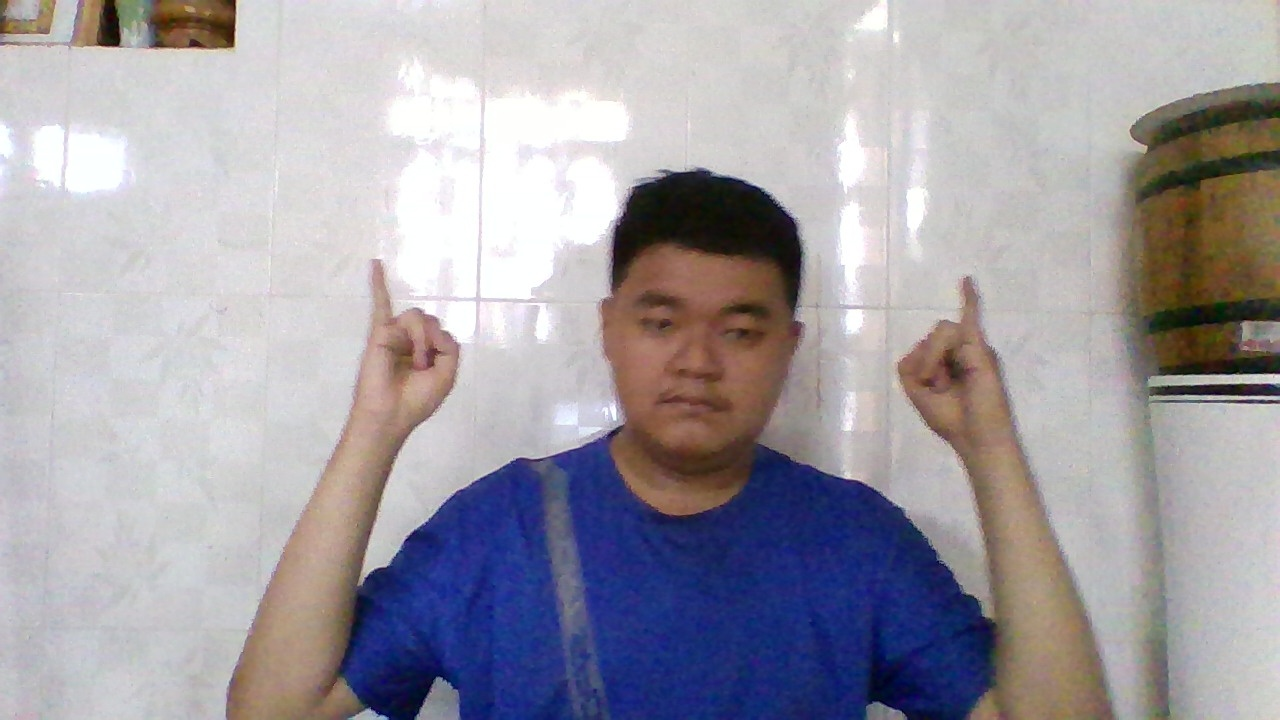I: (359, 249, 471, 434), (889, 265, 993, 453)
